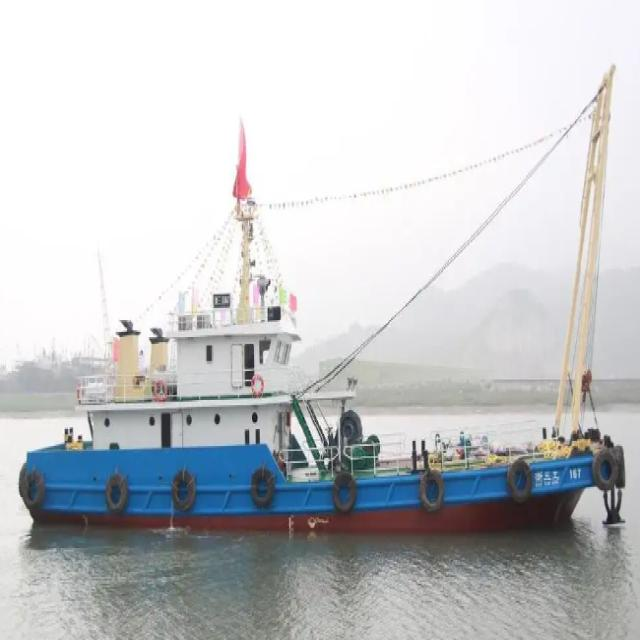fishing boat: (24, 169, 620, 544)
